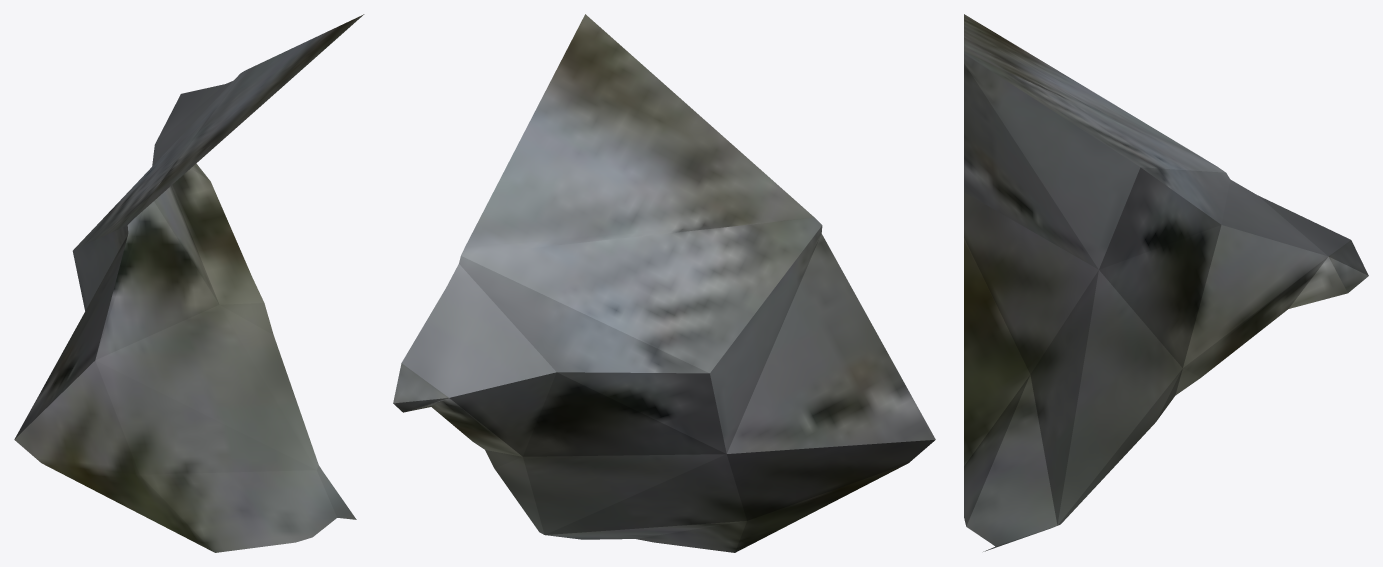
The picture shows the model from 3 angles, left to right: view 1: azimuth 30°, elevation 25°; view 2: azimuth 150°, elevation 25°; view 3: azimuth 270°, elevation 25°; orthographic projection. The views are drawn at different scales.
Size of the model in its own units: 0.3393 by 0.4732 by 0.3222.
1 material, 1 textured.
